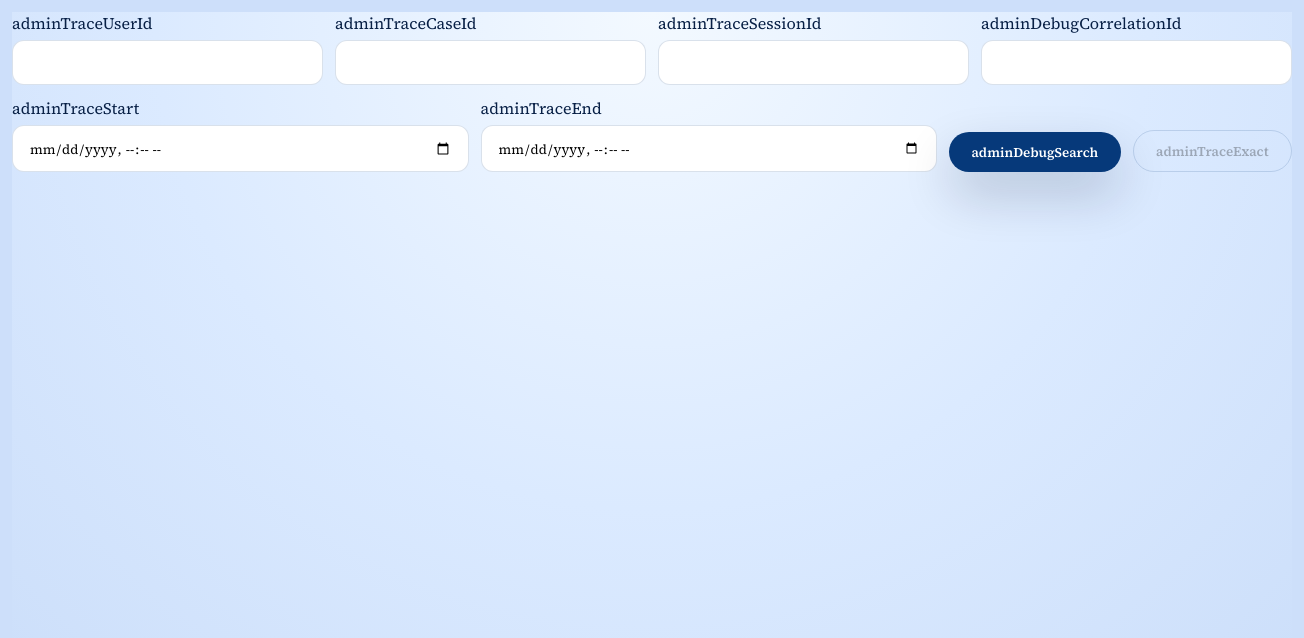
Test: metadata trace search › shows an empty state and unknown historical ownership
Type "session-a" into the field labelled "adminTraceSessionId" at (814, 62), box [658,40,969,85]
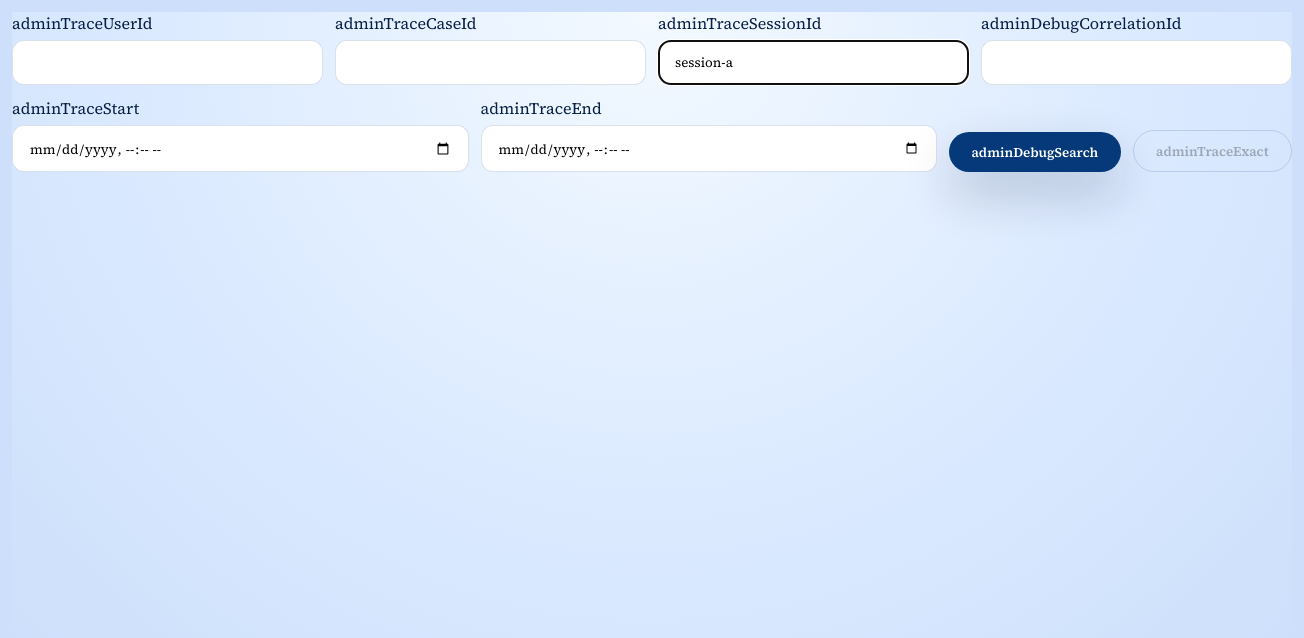
Click the button "adminDebugSearch" at (1035, 152), box [949,132,1121,172]
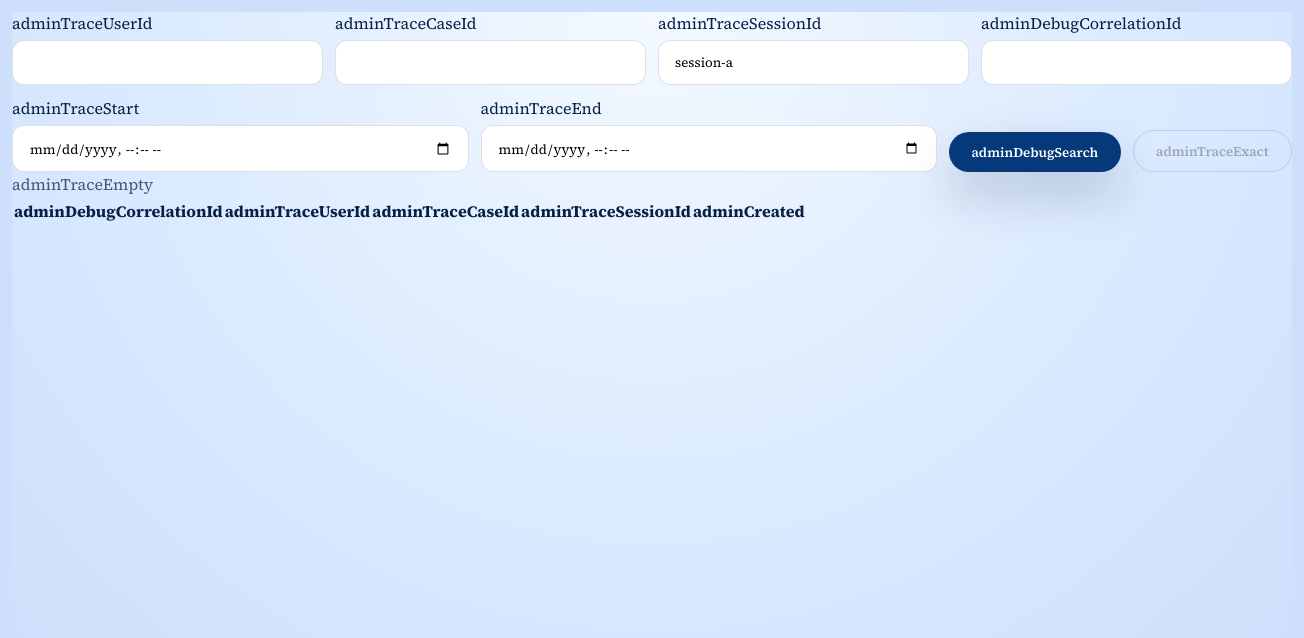
Expected: the text "adminTraceEmpty" is shown, [12,173,153,195]
Click the button "adminDebugSearch" at (1035, 152), box [949,132,1121,172]
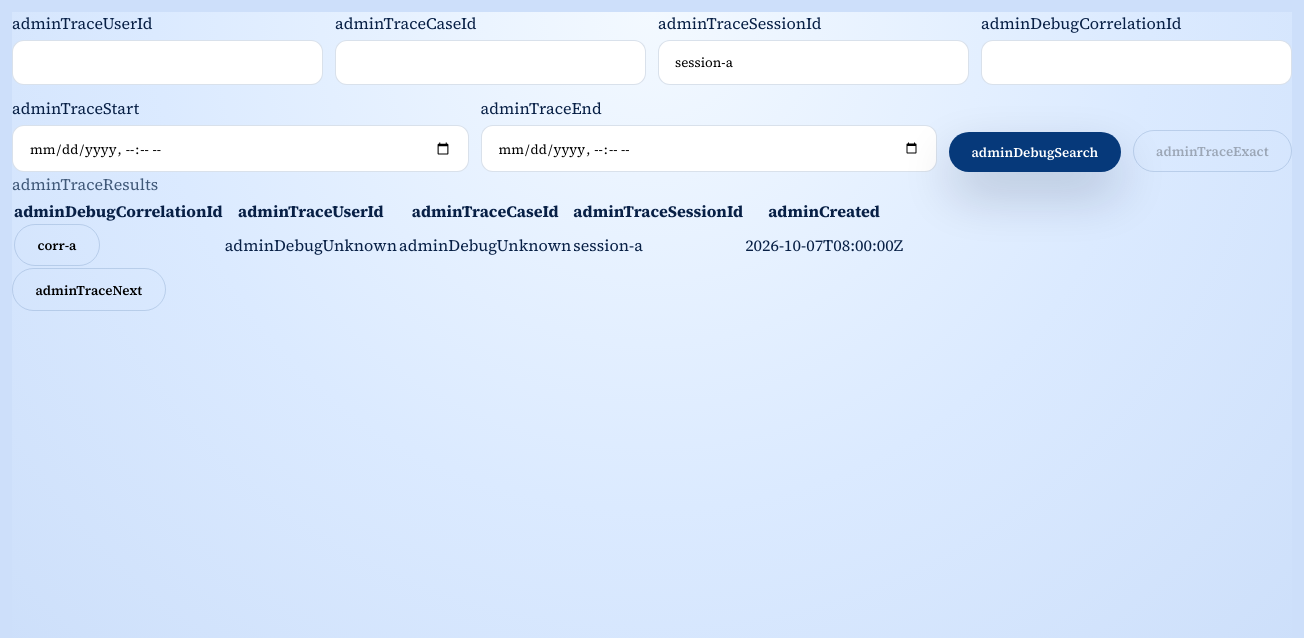
Expected: the text "adminDebugUnknown" is shown 2 times, [225,224,397,266]; [399,224,571,266]
